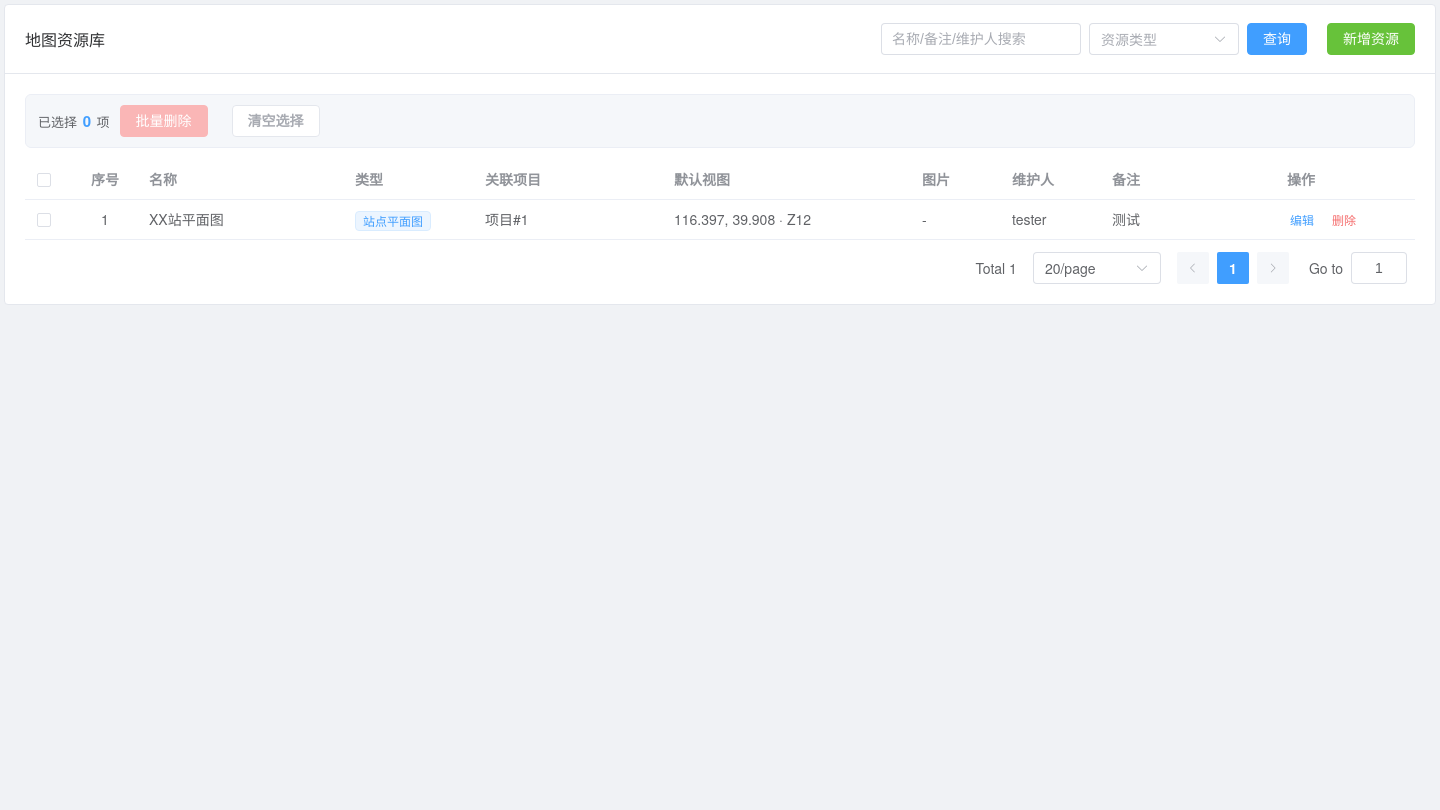
Scenario: MapManageView › 点击新增资源弹出对话框
Click the button "新增资源".
click(1371, 39)  # box [1327,23,1415,55]
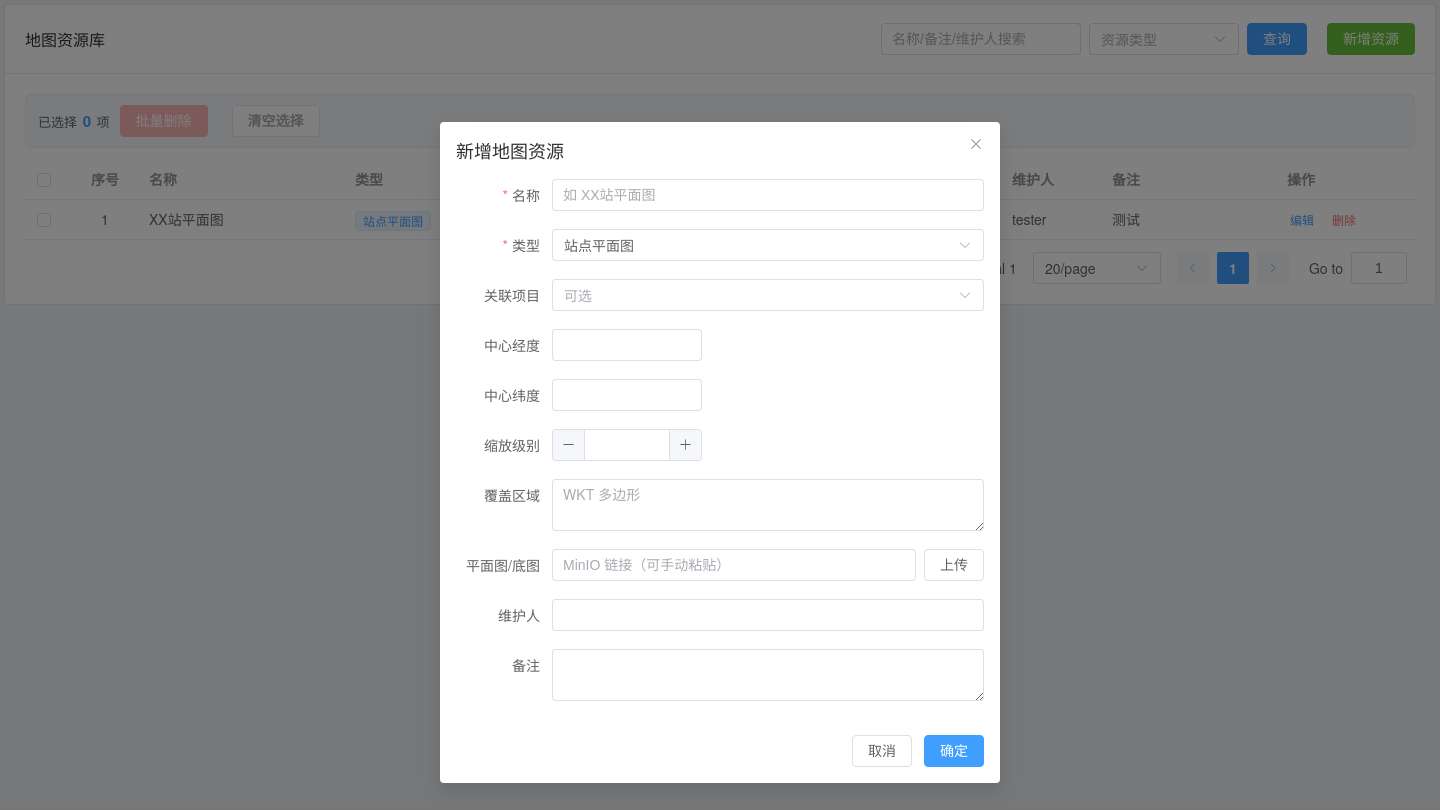
Expected: the text "新增地图资源" is shown, [456,136,564,162]
